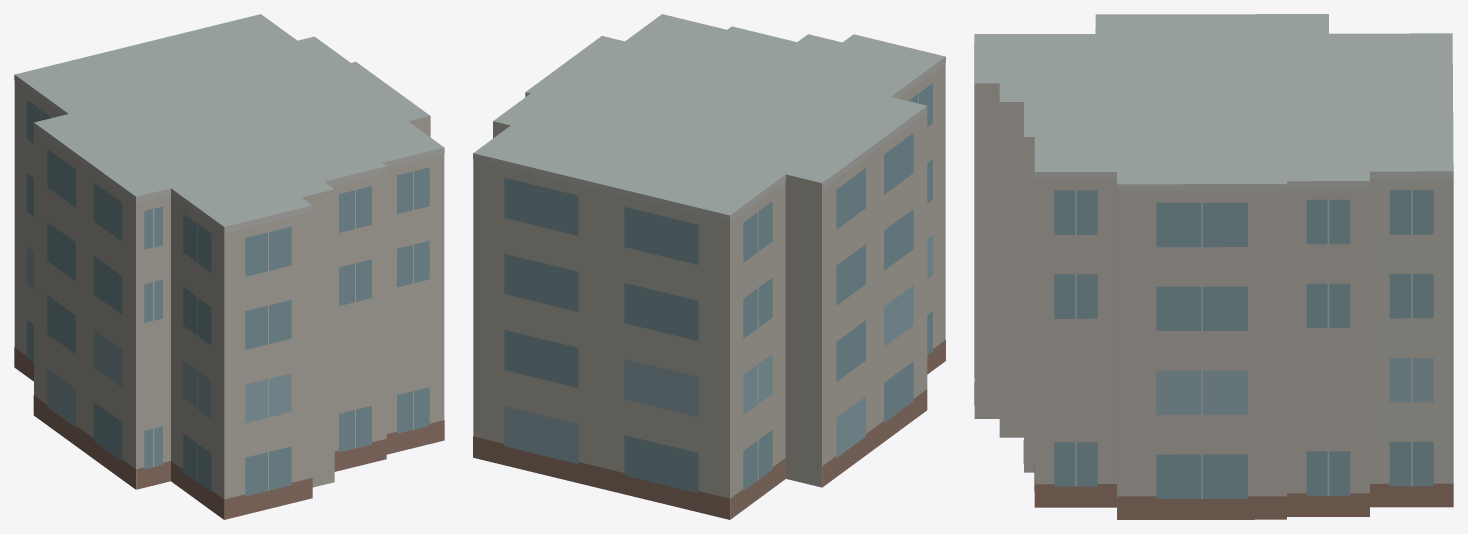
File: survey-upis-32519794.glb
3 views of the same model, side by side, from view 1: azimuth 30°, elevation 25°; view 2: azimuth 150°, elevation 25°; view 3: azimuth 270°, elevation 25° (orthographic). The views are drawn at different scales.
Parts seen in each view (by area): view 1: survey-upis-32519794.tmp; view 2: survey-upis-32519794.tmp; view 3: survey-upis-32519794.tmp.
Part boxes in pixels (x1,y1,x2,y2): survey-upis-32519794.tmp: [14, 14, 444, 519]; survey-upis-32519794.tmp: [473, 14, 945, 519]; survey-upis-32519794.tmp: [974, 14, 1453, 519].
Bounding box in the file's own units: 12.95 × 11.9 × 15.41.
